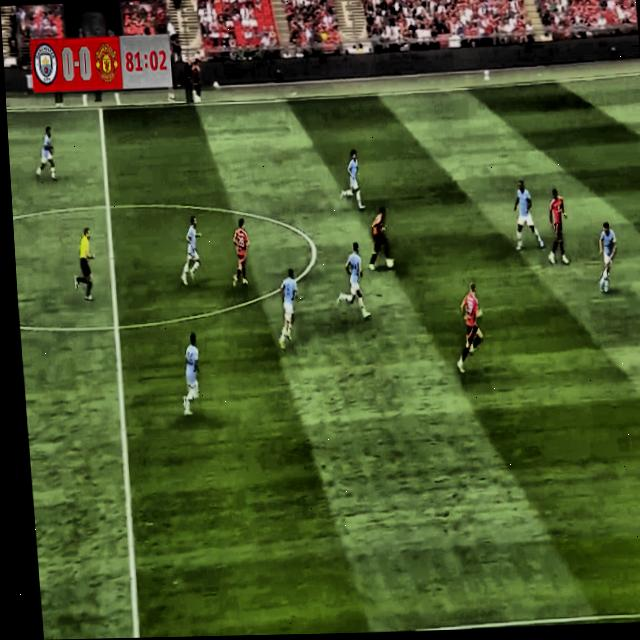ball: (383, 253, 394, 268)
players: (449, 268, 490, 380), (327, 240, 373, 320), (171, 322, 206, 422), (588, 220, 627, 308), (510, 172, 547, 260), (539, 188, 574, 279), (169, 205, 206, 285), (271, 263, 299, 354), (364, 199, 396, 276), (226, 209, 253, 292), (30, 118, 60, 187), (333, 151, 364, 210)
refree: (65, 214, 103, 313)
